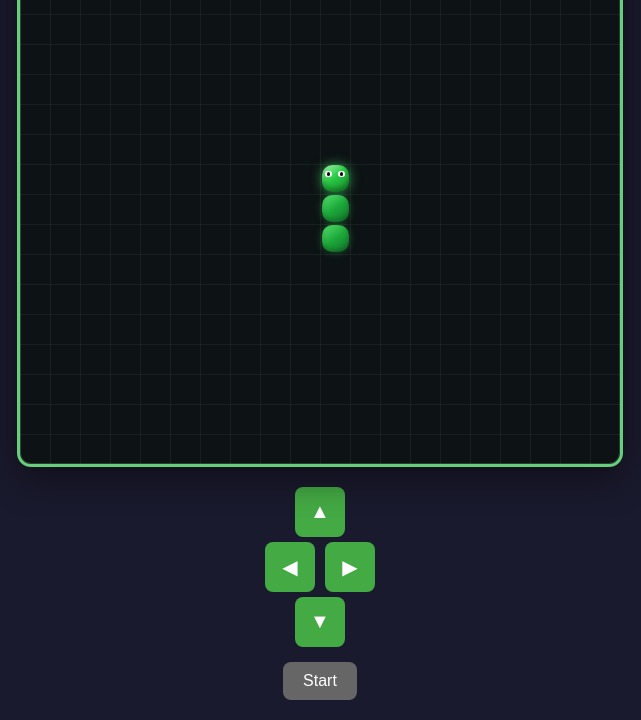
Test: restarts with the visible control after game over
The image size is (641, 720).
(page scrolled)
Click the button "Start": click(320, 681) x1=283 y1=662 x2=357 y2=700
Wait 1650 ms
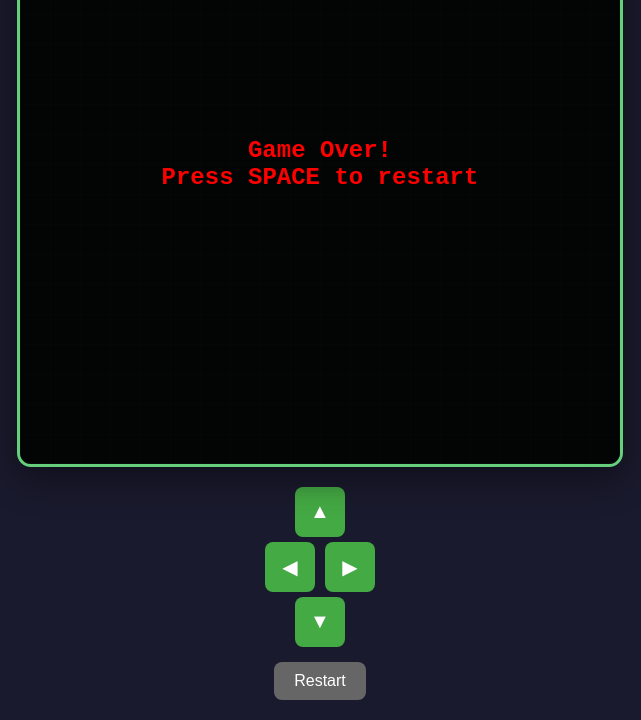
Click the button "Restart": click(320, 681) x1=274 y1=662 x2=366 y2=700
(page scrolled)
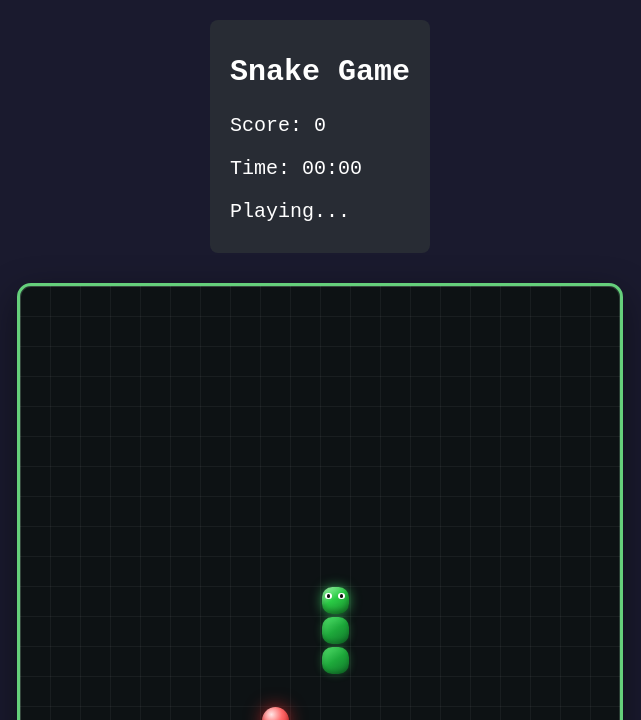
expect the text "Playing..." is shown: met, box x1=230 y1=200 x2=350 y2=223
